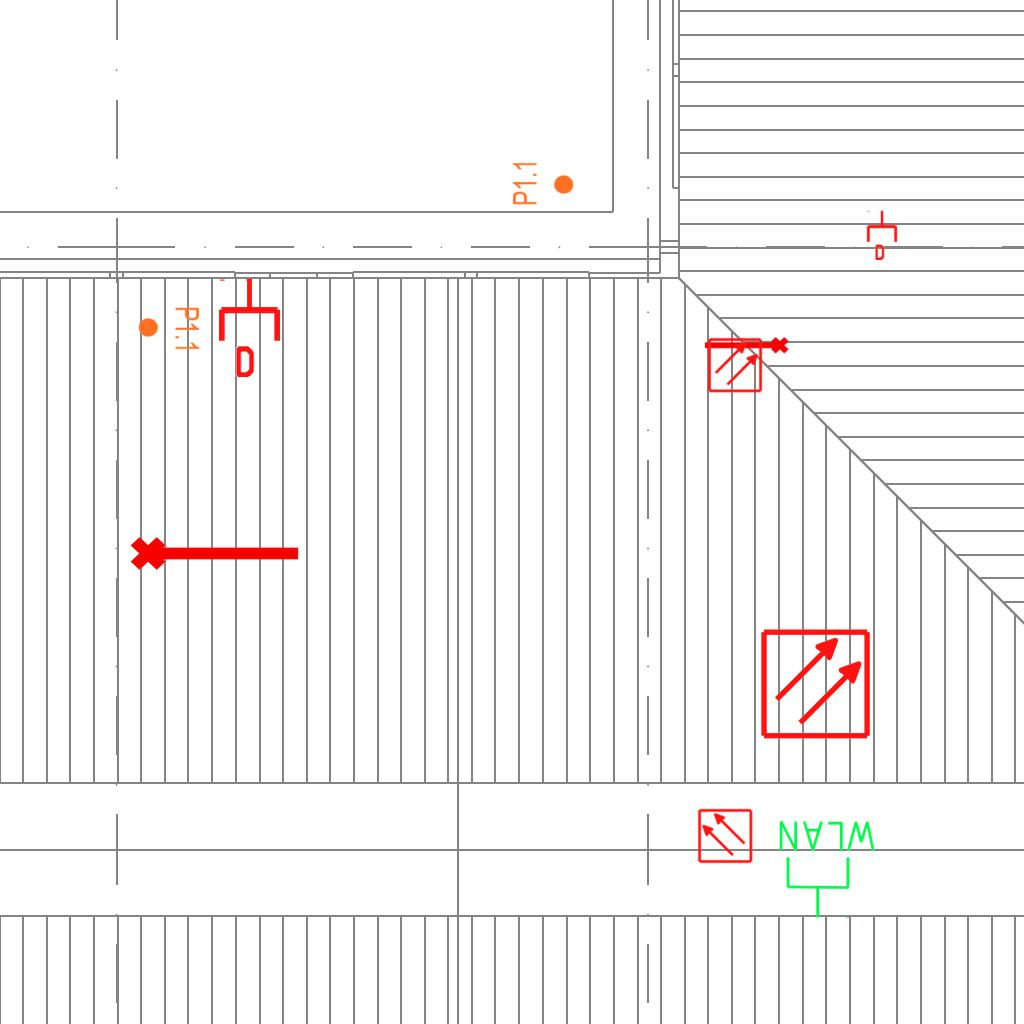ASR_Ansaugoeffnung: (128, 528, 304, 574), (702, 335, 790, 358)
Datenanschluss_einfach: (215, 277, 284, 377), (865, 210, 899, 260)
Downlight_LED_Einbauleuchten_Flur: (137, 306, 201, 352), (511, 160, 575, 206)
RMO_Rauchmelder_optischer: (759, 627, 872, 740), (697, 808, 753, 864), (707, 337, 763, 393)
WLAN: (775, 817, 880, 921)
